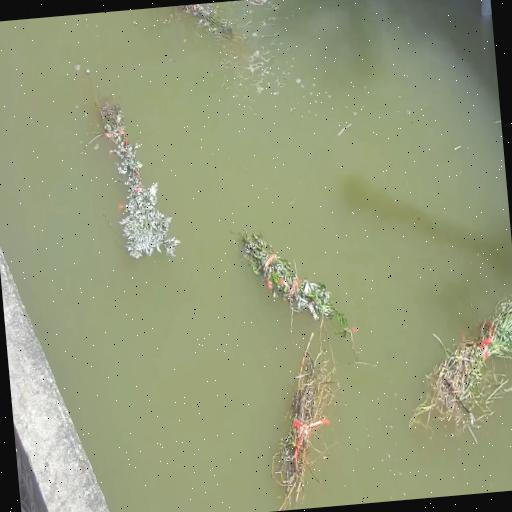twig: (256, 300, 348, 512), (88, 68, 184, 266), (395, 291, 512, 451), (237, 216, 349, 336), (174, 0, 242, 44)
